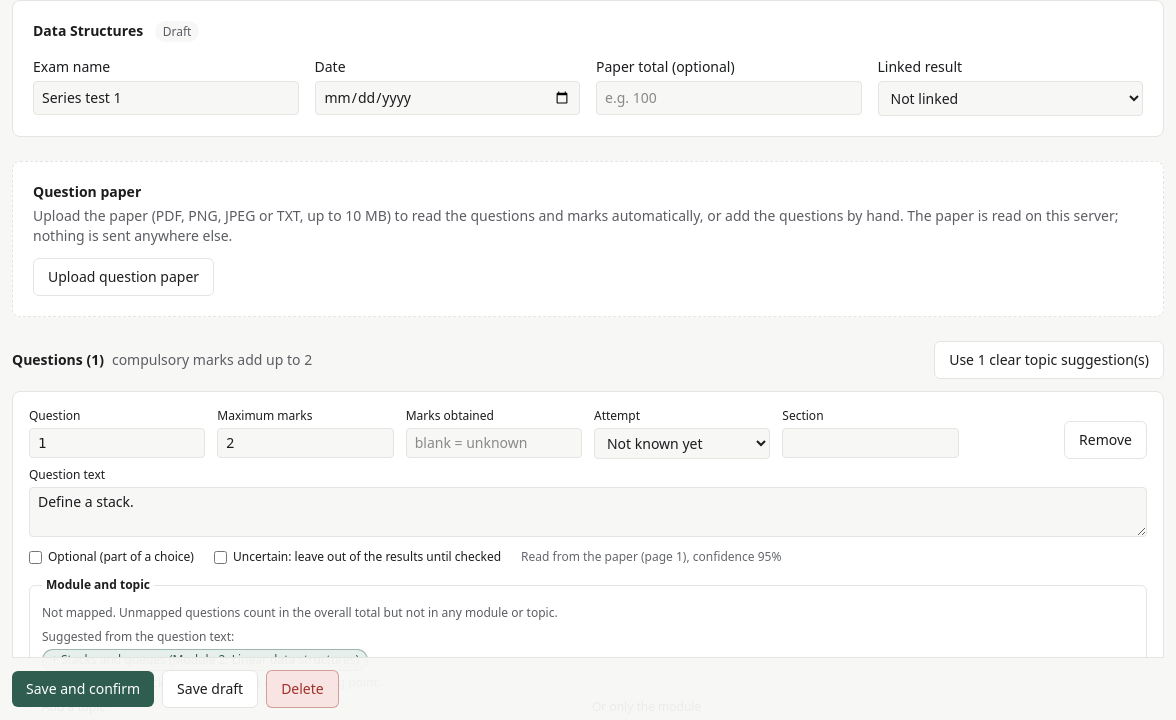
Scenario: BreakdownEditor › shows the server's reason when confirming fails
Click the button "Save and confirm" at (83, 689), box left=12, top=671, right=154, bottom=707
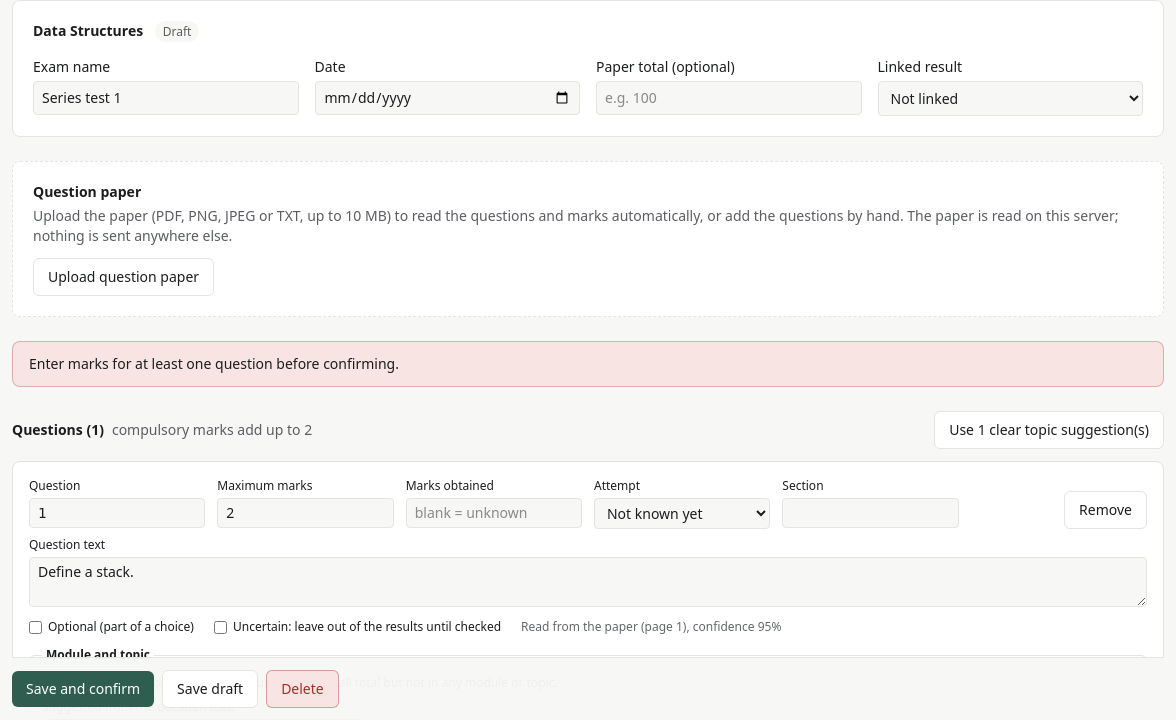
Expected: the message shows "at least one question", left=29, top=354, right=399, bottom=373
